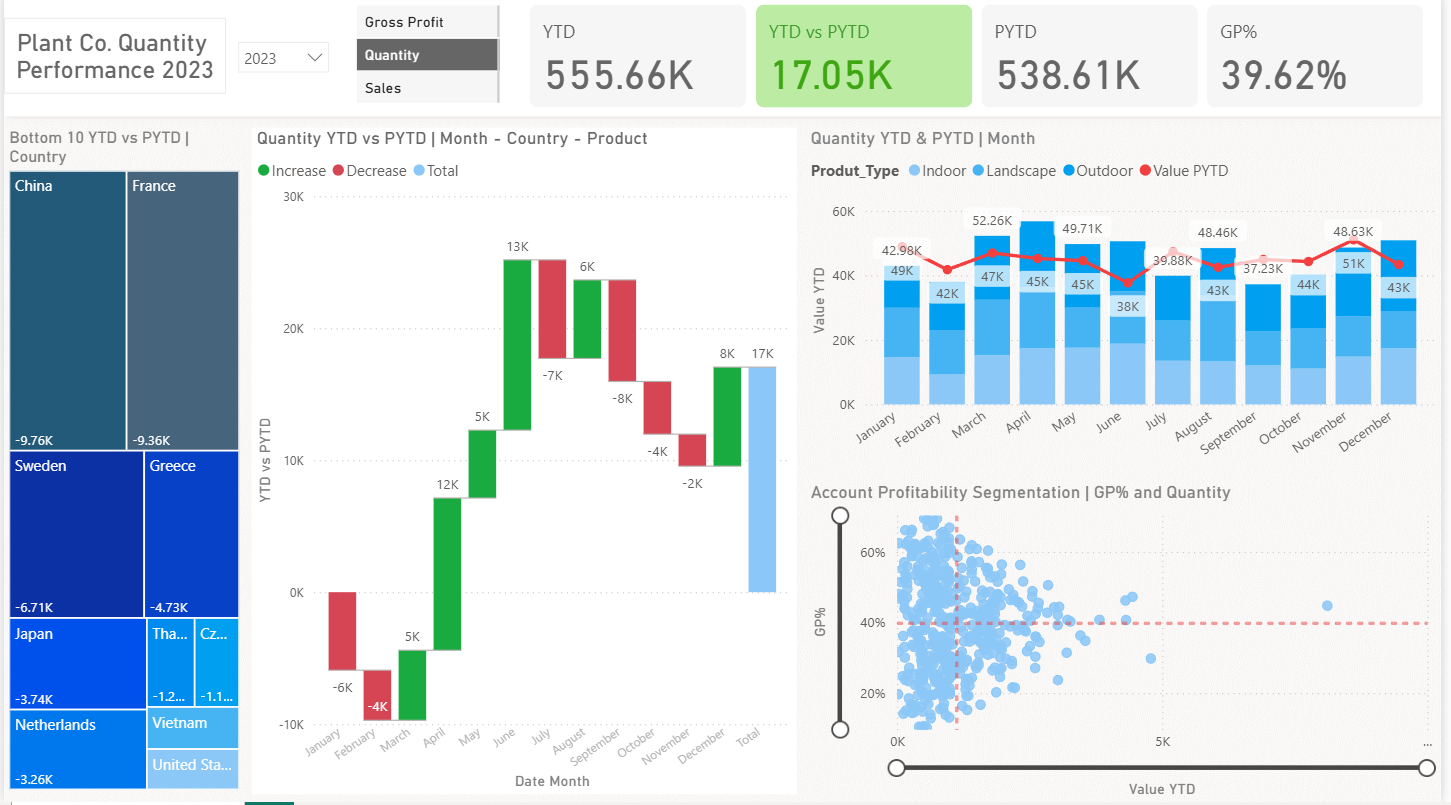

The dashboard page shown, as its layout file describes it:
{"tool":"powerbi","page":{"name":"Plants Performance Report","canvas":[1280,720],"ordinal":0},"visuals":[{"type":"cardVisual","fields":{"Data":["_Measures.S_YTD","_Measures.YTD vs PYTD","_Measures.S_PYTD","_Measures.GP%"]},"box":[463,4.2,806.2,102.1],"z":0},{"type":"advancedSlicerVisual","fields":{"Values":["Slc_Values.Values"]},"box":[309.8,5.9,137.3,98],"z":1000},{"type":"slicer","fields":{"Values":["Dim_Date.Date.Variation.Date Hierarchy.Year"]},"box":[198.4,32.7,101.3,50.2],"z":2000},{"type":"treemap","title":"Bottom 10 YTD vs PYTD | Country","fields":{"Values":["_Measures.YTD vs PYTD"],"Group":["Dim_Account.country"]},"box":[0,118.7,214.6,594.4],"z":3000},{"type":"waterfallChart","fields":{"Y":["_Measures.YTD vs PYTD"],"Category":["Dim_Date.Date.Variation.Date Hierarchy.Month","Dim_Account.country","Dim_Product.Produt_Type","Dim_Product.Product_Name"]},"box":[220.3,119.6,485.2,593.5],"z":4000},{"type":"lineStackedColumnComboChart","fields":{"Y":["_Measures.S_YTD"],"Y2":["_Measures.S_PYTD"],"Category":["Dim_Date.Date.Variation.Date Hierarchy.Quarter","Dim_Date.Date.Variation.Date Hierarchy.Month"],"Series":["Dim_Product.Produt_Type"]},"box":[714.1,119.6,565.9,314.3],"z":5000},{"type":"scatterChart","fields":{"Y":["_Measures.GP%"],"X":["_Measures.S_YTD"],"Category":["Dim_Account.Account"]},"box":[714.1,433.9,565.9,285.8],"z":6000},{"type":"card","fields":{"Values":["_Measures._Report title"]},"box":[0,20.9,198.5,68.4],"z":7000}]}

Visuals, with their boxes in screenshot pixels (x1, y1, x2, y2), scaled from the page's 1280x720 canvas onto the 1451x805 screenshot:
cardVisual - _Measures.S_YTD x _Measures.YTD vs PYTD: 525:5:1439:119
advancedSlicerVisual - Slc_Values.Values: 351:7:507:116
slicer - Dim_Date.Date.Variation.Date Hierarchy.Year: 225:37:340:93
"Bottom 10 YTD vs PYTD | Country" treemap: 0:133:243:797
waterfallChart - _Measures.YTD vs PYTD x Dim_Date.Date.Variation.Date Hierarchy.Month: 250:134:800:797
lineStackedColumnComboChart - _Measures.S_YTD x _Measures.S_PYTD: 809:134:1450:485
scatterChart - _Measures.GP% x _Measures.S_YTD: 809:485:1450:804
card - _Measures._Report title: 0:23:225:100
